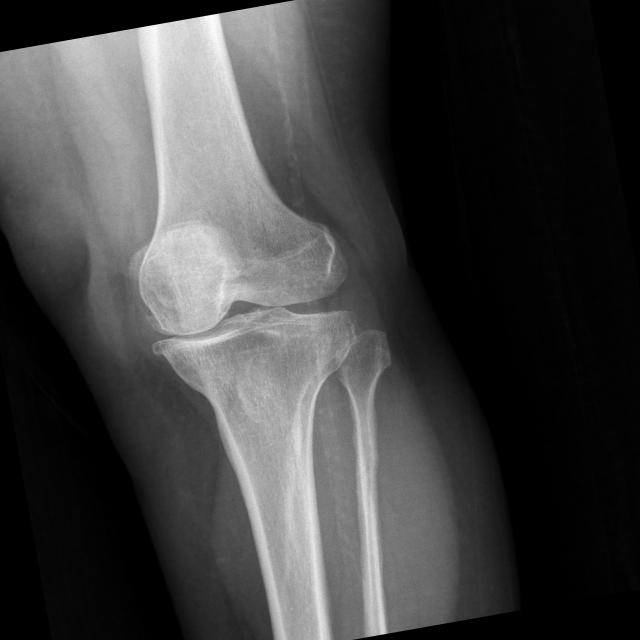Knee: (127, 204, 370, 426)
